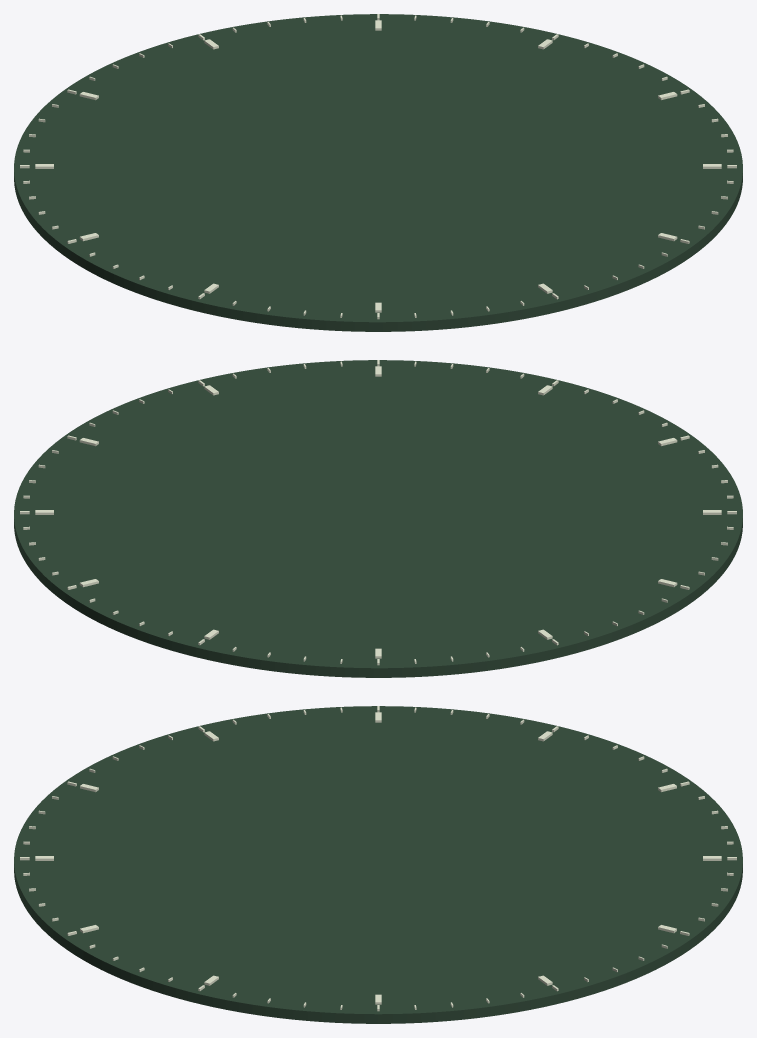
The model's file is dial-field-285.glb.
The picture shows the model from 3 angles, top to bottom: view 1: azimuth 30°, elevation 25°; view 2: azimuth 150°, elevation 25°; view 3: azimuth 270°, elevation 25°; orthographic projection.
Parts seen in each view (by area): view 1: DD_DIAL_SUBSTRATE; view 2: DD_DIAL_SUBSTRATE; view 3: DD_DIAL_SUBSTRATE.
Boxes of the visible parts, x1,y1,x2,y2 form: DD_DIAL_SUBSTRATE: (14, 14, 742, 331); DD_DIAL_SUBSTRATE: (14, 360, 742, 677); DD_DIAL_SUBSTRATE: (14, 706, 742, 1023).
Bounding box in the file's own units: 28.5 × 0.54 × 28.5.
